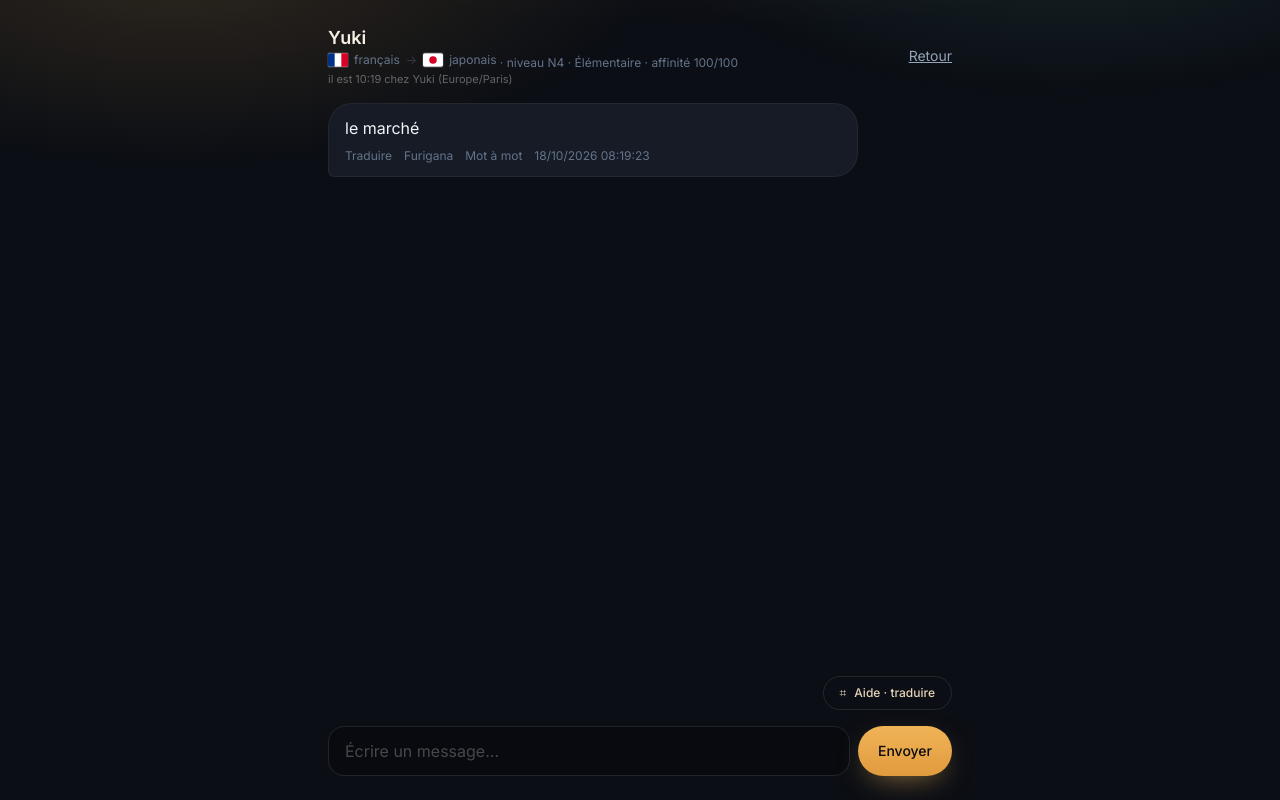
Test case: Fil de discussion › le mode mot à mot ouvre une aide lexicale au clic sur un mot
The image size is (1280, 800).
Step 1. Click the button "Mot à mot" → click(494, 156), box [465,148,522,164]
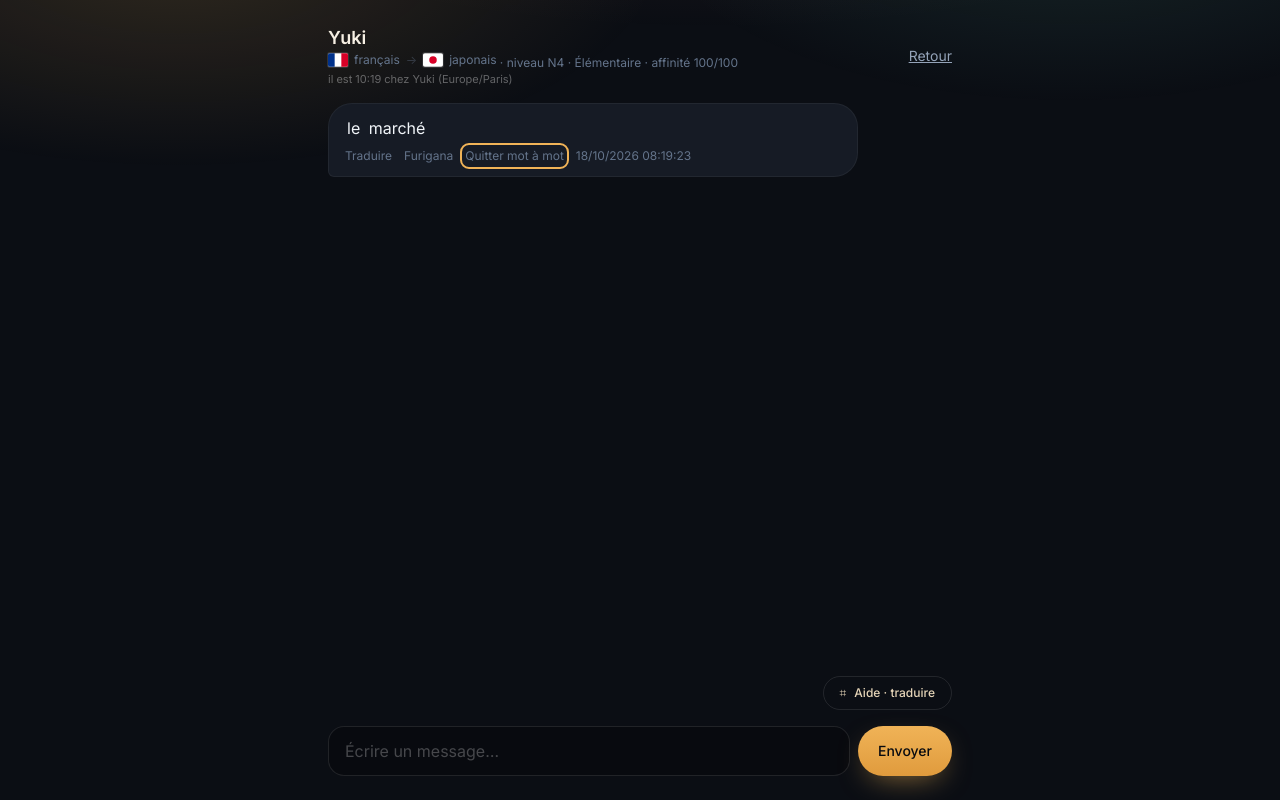
Step 2. Click the button "marché" → click(397, 128), box [367,116,427,140]
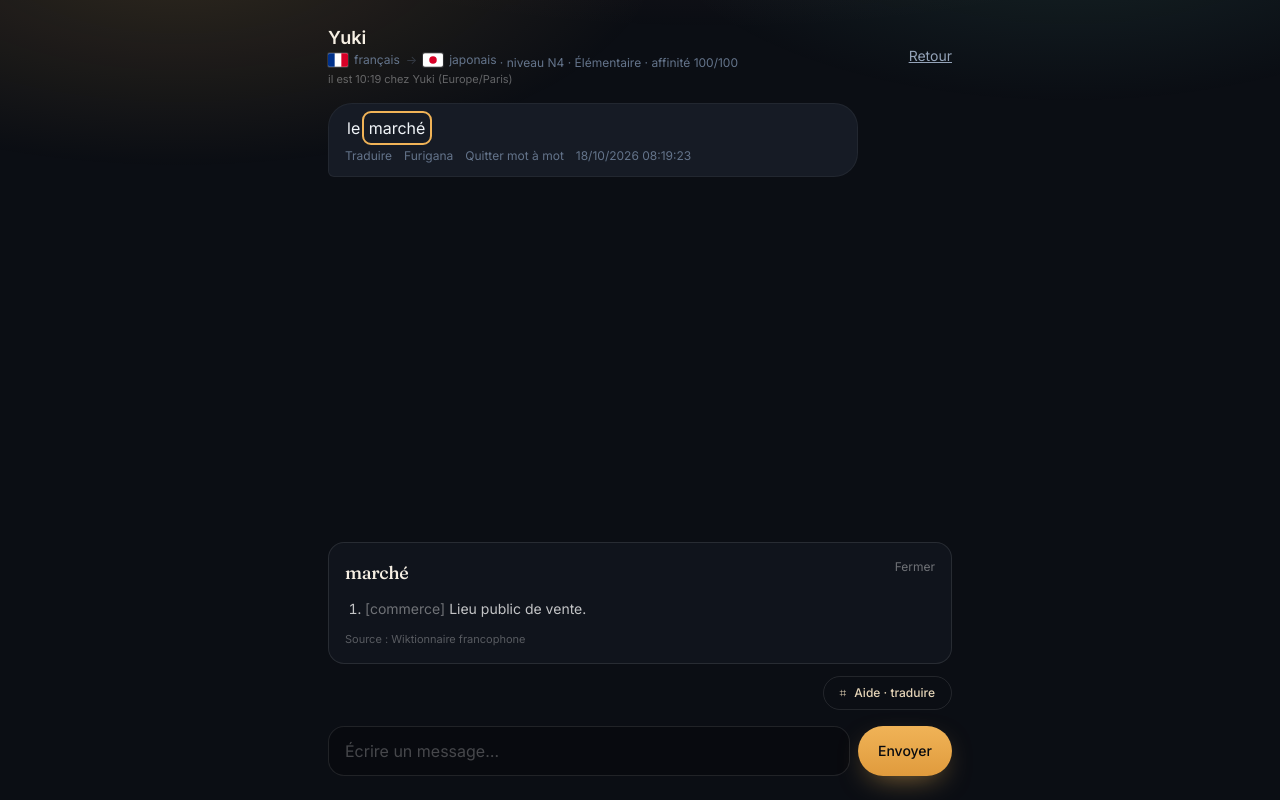
expect the list item "[commerce] Lieu public de vente." is shown: met, box [365,600,586,616]
expect the text "Source : Wiktionnaire francophone" is shown: met, box [345,632,525,646]
